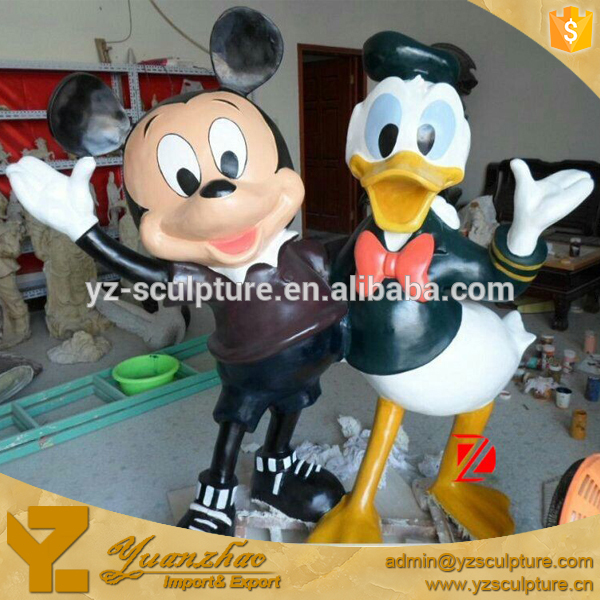Mickey: (43, 6, 305, 268)
